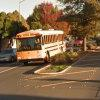Bus: (14, 24, 68, 64)
